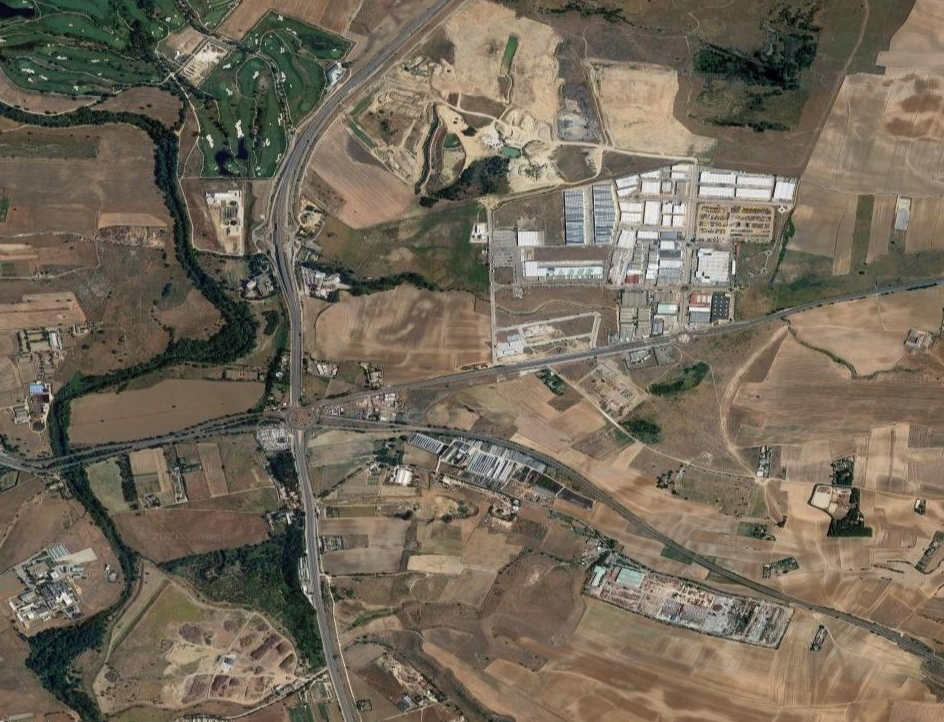industrial: (562, 162, 742, 335)
motorway: (239, 129, 373, 722), (1, 375, 249, 507), (263, 1, 465, 131), (372, 350, 586, 406), (587, 327, 714, 388), (825, 267, 944, 325), (715, 288, 824, 343)
